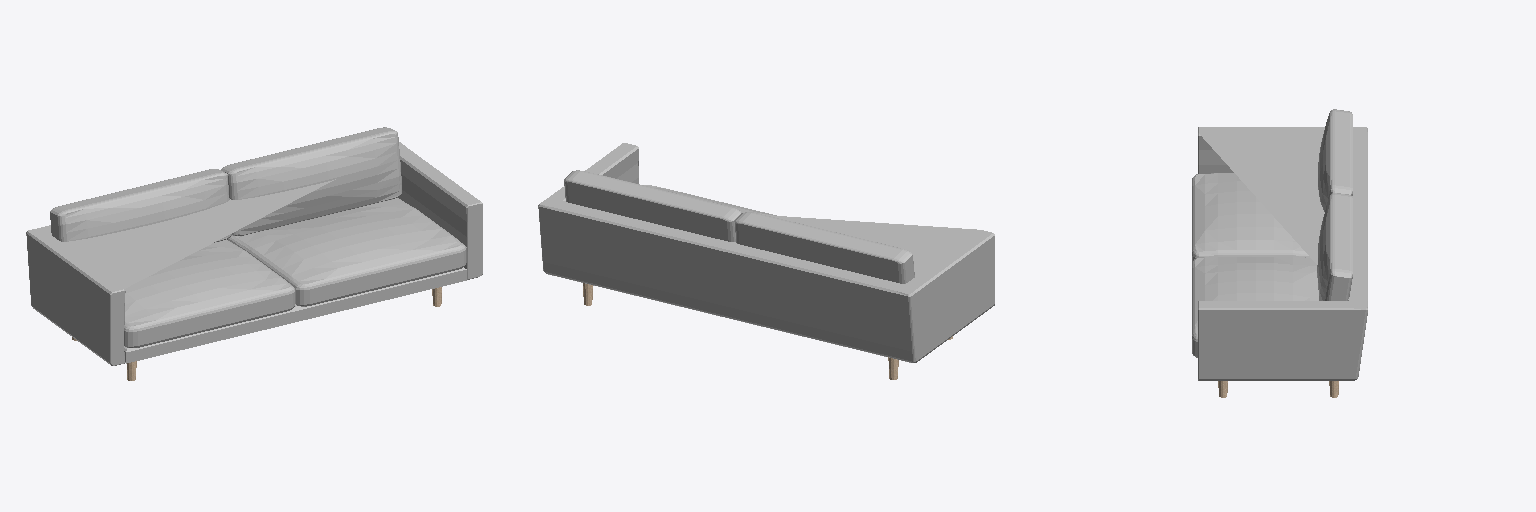
3 renders of one model, left to right at view 1: azimuth 30°, elevation 25°; view 2: azimuth 150°, elevation 25°; view 3: azimuth 270°, elevation 25°, orthographic.
Parts seen in each view (by area): view 1: Mesh2 Group2 Hiroshima_Sofa1 Model, Mesh4 Group5 Hiroshima_Sofa1 Model, Mesh3 Group4 Group3 Hiroshima_Sofa1 Model, Mesh6 Group7 Hiroshima_Sofa1 Model, Mesh5 Group6 Hiroshima_Sofa1 Model; view 2: Mesh2 Group2 Hiroshima_Sofa1 Model, Mesh5 Group6 Hiroshima_Sofa1 Model, Mesh6 Group7 Hiroshima_Sofa1 Model; view 3: Mesh2 Group2 Hiroshima_Sofa1 Model, Mesh3 Group4 Group3 Hiroshima_Sofa1 Model, Mesh4 Group5 Hiroshima_Sofa1 Model, Mesh6 Group7 Hiroshima_Sofa1 Model, Mesh5 Group6 Hiroshima_Sofa1 Model.
Boxes of the visible parts, x1=… form: Mesh2 Group2 Hiroshima_Sofa1 Model: x1=26, y1=142, x2=482, y2=365; Mesh4 Group5 Hiroshima_Sofa1 Model: x1=227, y1=198, x2=466, y2=306; Mesh3 Group4 Group3 Hiroshima_Sofa1 Model: x1=124, y1=239, x2=295, y2=347; Mesh6 Group7 Hiroshima_Sofa1 Model: x1=221, y1=127, x2=401, y2=235; Mesh5 Group6 Hiroshima_Sofa1 Model: x1=50, y1=169, x2=231, y2=242; Mesh2 Group2 Hiroshima_Sofa1 Model: x1=538, y1=143, x2=994, y2=362; Mesh5 Group6 Hiroshima_Sofa1 Model: x1=734, y1=212, x2=914, y2=283; Mesh6 Group7 Hiroshima_Sofa1 Model: x1=564, y1=170, x2=741, y2=241; Mesh2 Group2 Hiroshima_Sofa1 Model: x1=1198, y1=127, x2=1367, y2=380; Mesh3 Group4 Group3 Hiroshima_Sofa1 Model: x1=1192, y1=173, x2=1309, y2=261; Mesh4 Group5 Hiroshima_Sofa1 Model: x1=1192, y1=257, x2=1318, y2=357; Mesh6 Group7 Hiroshima_Sofa1 Model: x1=1317, y1=193, x2=1352, y2=300; Mesh5 Group6 Hiroshima_Sofa1 Model: x1=1318, y1=109, x2=1352, y2=211.
Bounding box in the file's own units: 2.21 × 0.7397 × 0.905.
2 materials, 1 textured.